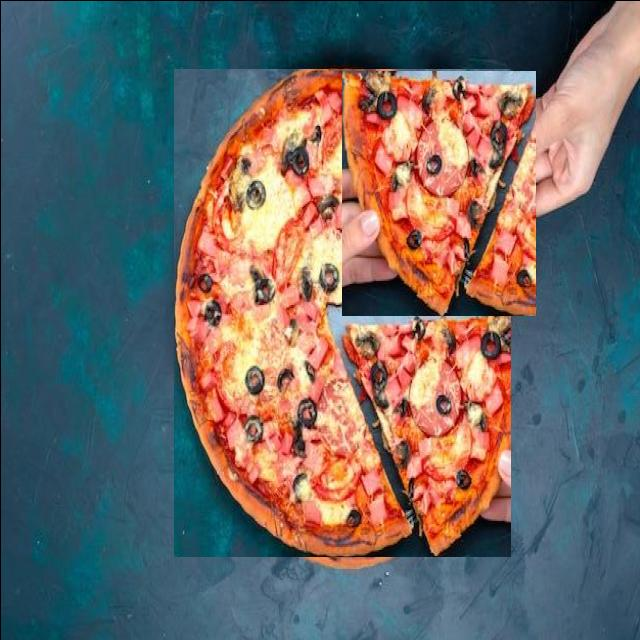olive: (249, 322, 274, 359), (370, 218, 388, 262), (245, 415, 266, 446), (318, 333, 338, 362), (290, 449, 308, 479), (245, 230, 263, 260), (469, 375, 488, 403), (297, 199, 316, 227), (352, 428, 372, 454), (480, 266, 500, 292), (290, 166, 306, 198), (244, 182, 262, 209), (204, 298, 220, 325), (447, 334, 462, 360), (340, 513, 355, 538), (276, 234, 293, 256), (378, 346, 392, 371), (426, 466, 440, 488), (455, 136, 471, 155), (197, 332, 212, 352), (413, 284, 424, 310), (435, 212, 450, 231), (292, 130, 305, 151), (355, 334, 367, 355), (345, 98, 359, 116)
pizza: (173, 68, 510, 556), (341, 68, 535, 314)
